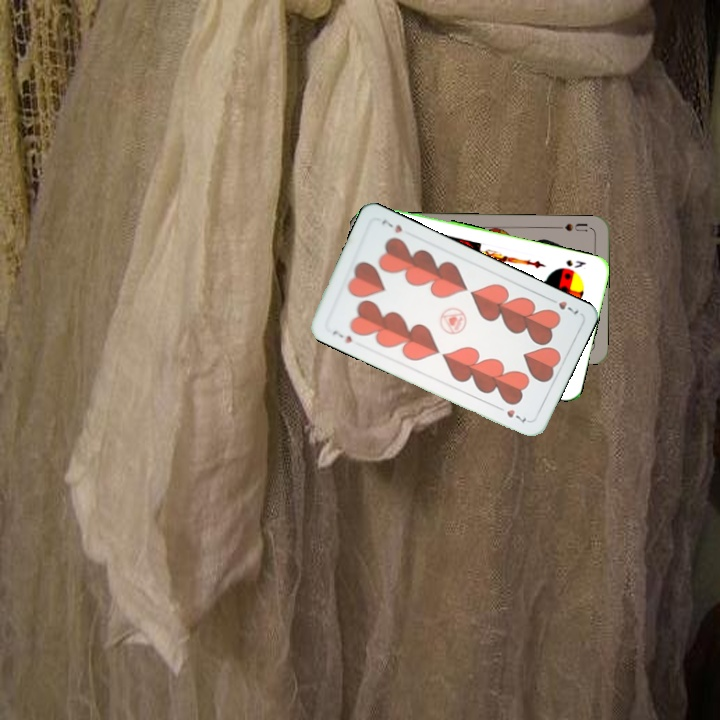H7: (544, 294, 581, 317), (328, 325, 355, 346)
SK: (562, 256, 588, 270)
SU: (553, 219, 590, 234)
